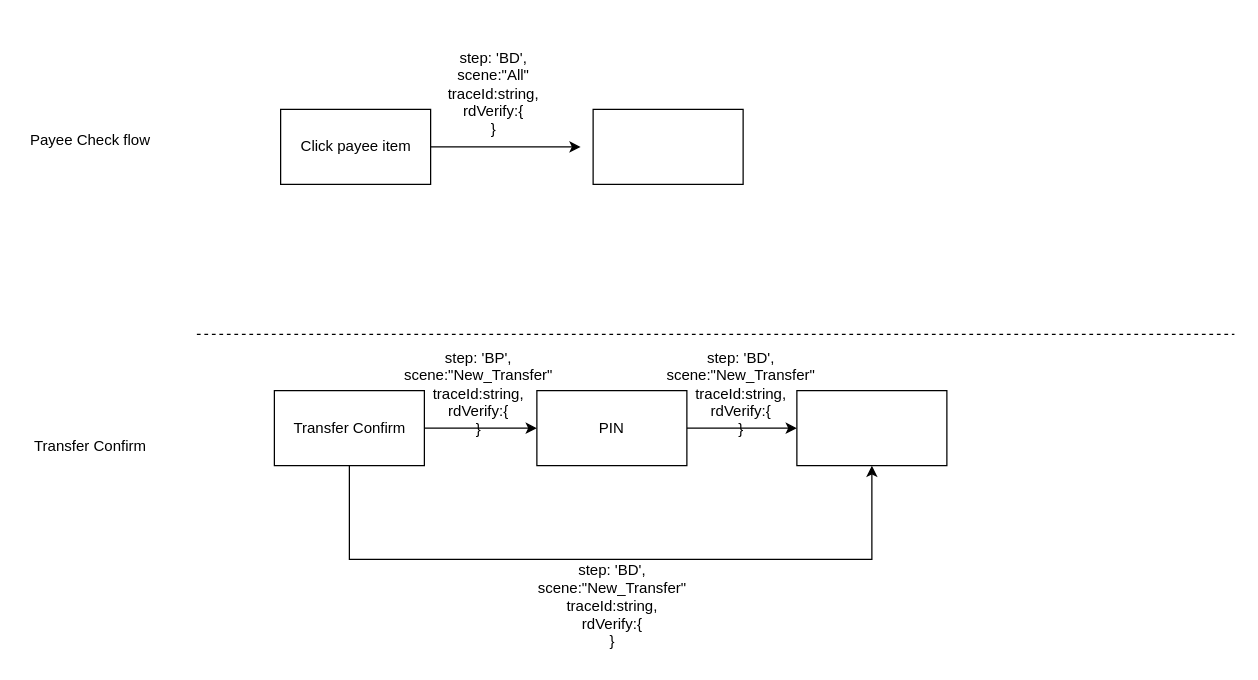
This 1258x680 diagram has some shape labels left out. Here are the shapes that lost their labels. From the top down, the centre of each, then its label:
(x=667, y=146): go on transfer flow
(x=871, y=427): go on transfer
